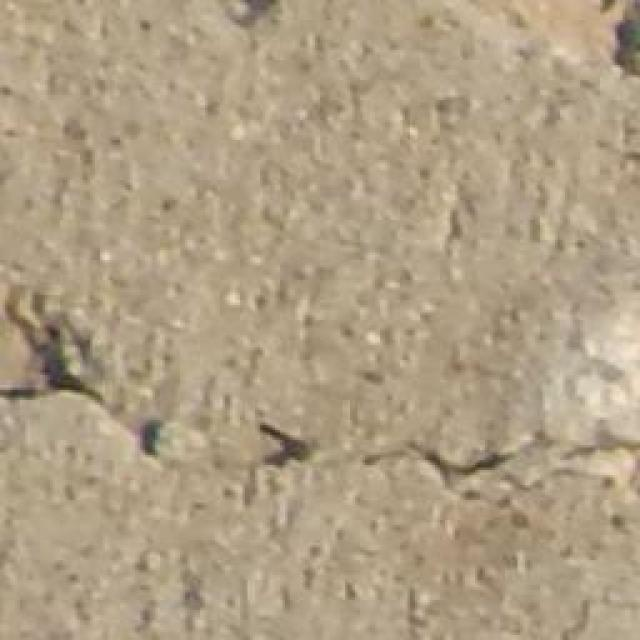concrete-crack: (0, 270, 640, 497)
